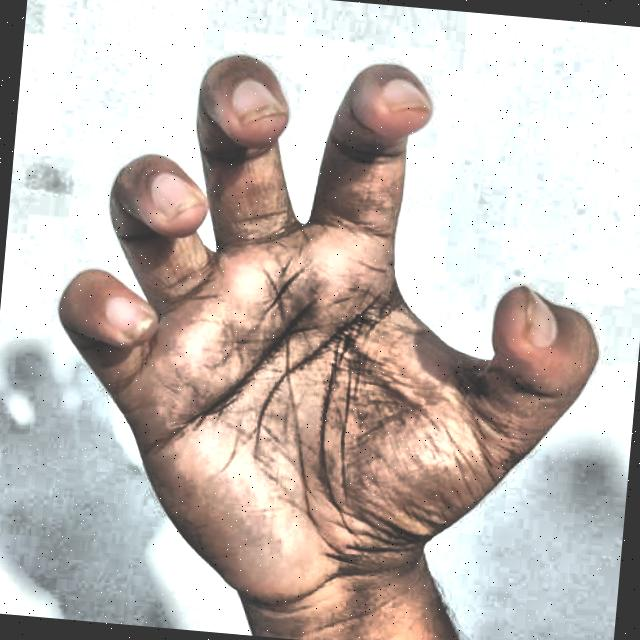Ja: (5, 7, 636, 640)
